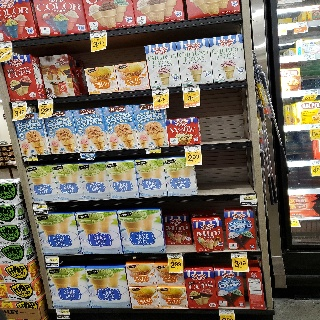All PRICE TAGS: (182, 85, 199, 92), (90, 31, 106, 38), (152, 88, 169, 94), (240, 194, 256, 200), (219, 309, 234, 315), (12, 101, 26, 107), (231, 252, 247, 257), (184, 146, 200, 151), (145, 148, 161, 153), (33, 203, 46, 209), (38, 99, 53, 104), (293, 22, 308, 27), (56, 309, 70, 314), (23, 156, 37, 161), (304, 90, 318, 95), (302, 55, 316, 60), (167, 254, 182, 258), (0, 43, 12, 48), (309, 124, 320, 129), (46, 257, 59, 261), (111, 194, 124, 198), (311, 160, 320, 165), (82, 250, 92, 254)
